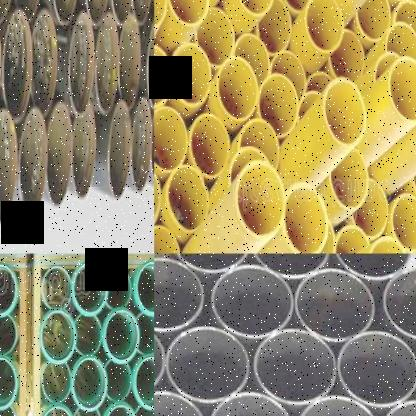pipe: (167, 326, 250, 403), (254, 329, 336, 405), (210, 265, 294, 338), (337, 331, 416, 407), (295, 269, 375, 342), (0, 9, 36, 124), (235, 160, 284, 238), (154, 258, 204, 332), (16, 107, 48, 220), (44, 101, 76, 210), (30, 9, 60, 122), (283, 181, 328, 254), (64, 10, 94, 119), (70, 99, 100, 201), (165, 165, 209, 234), (323, 78, 366, 147), (93, 12, 120, 118), (105, 101, 133, 202), (217, 56, 259, 121), (170, 43, 212, 108), (189, 113, 230, 178), (257, 74, 298, 138), (127, 95, 153, 195), (117, 11, 143, 109), (382, 268, 416, 340), (330, 148, 369, 210), (195, 8, 235, 68), (0, 107, 20, 226), (351, 178, 389, 240), (154, 106, 188, 172), (208, 391, 294, 416), (304, 0, 344, 53), (71, 354, 108, 411), (238, 119, 279, 170), (103, 308, 140, 364), (334, 254, 413, 280), (39, 310, 77, 364), (256, 0, 292, 56), (72, 260, 108, 316), (269, 50, 307, 103), (328, 29, 365, 83), (234, 32, 270, 87), (388, 56, 416, 122), (297, 394, 381, 416), (252, 254, 329, 278), (171, 254, 250, 273), (392, 192, 416, 252), (356, 0, 391, 41), (385, 21, 416, 66), (104, 358, 132, 403), (74, 313, 102, 357), (43, 266, 71, 309), (392, 0, 416, 49), (166, 0, 209, 27), (42, 363, 71, 403), (154, 44, 172, 108), (104, 267, 132, 308), (135, 354, 154, 410), (135, 260, 154, 316), (0, 354, 18, 410), (0, 260, 18, 316), (51, 0, 84, 26), (82, 0, 112, 27), (366, 236, 411, 253), (137, 312, 154, 355), (154, 226, 180, 254), (234, 0, 274, 18), (147, 12, 154, 111), (0, 314, 17, 354), (14, 0, 44, 22), (108, 0, 138, 20), (102, 400, 138, 416), (130, 0, 154, 23), (279, 0, 317, 12), (154, 0, 167, 30), (40, 406, 75, 416), (0, 0, 17, 17), (73, 407, 101, 416), (134, 405, 154, 416), (0, 404, 15, 416)
